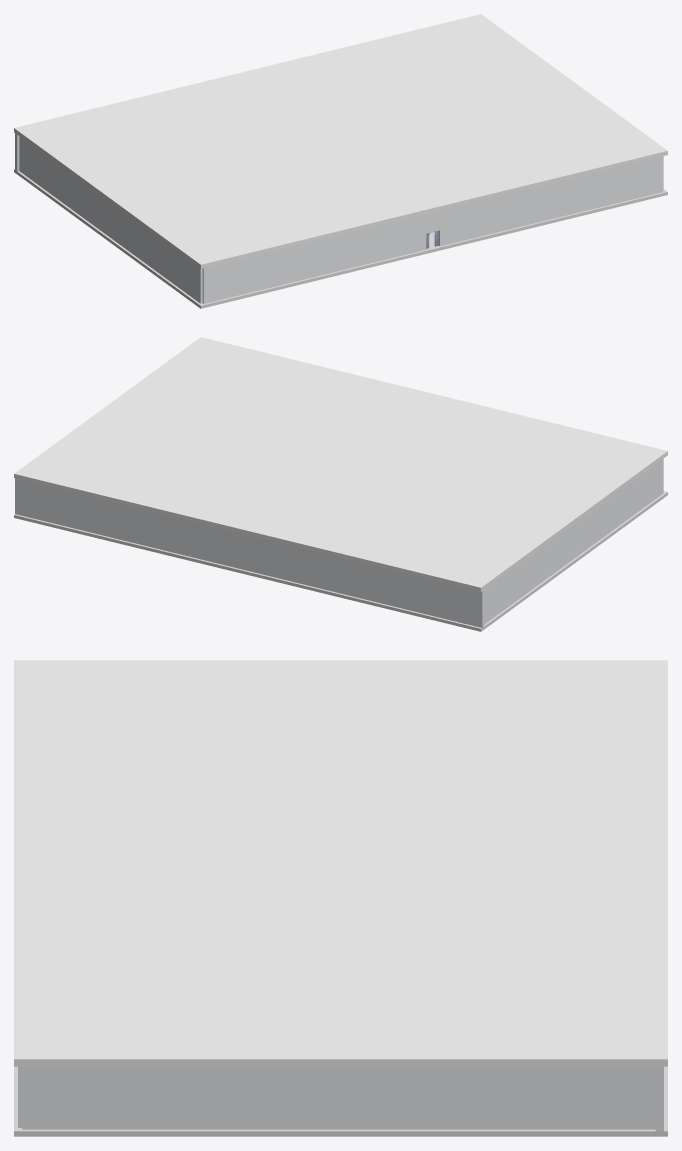
Rendered from world.glb.
3 renders of one model, top to bottom at view 1: azimuth 30°, elevation 25°; view 2: azimuth 150°, elevation 25°; view 3: azimuth 270°, elevation 25°, orthographic. The views are drawn at different scales.
Visible parts, largest first — view 1: Ceiling, Wall_S_L, Wall_S_R, Wall_W, Terrain; view 2: Ceiling, Wall_N, Wall_W, Terrain; view 3: Ceiling, Wall_E, Terrain.
Boxes of the visible parts, left/top/right/bottom form: Ceiling: left=14, top=14, right=667, bottom=268; Wall_S_L: left=202, top=214, right=426, bottom=303; Wall_S_R: left=439, top=156, right=662, bottom=246; Wall_W: left=19, top=136, right=202, bottom=303; Terrain: left=14, top=169, right=667, bottom=308; Ceiling: left=14, top=337, right=667, bottom=591; Wall_N: left=15, top=478, right=484, bottom=627; Wall_W: left=484, top=458, right=663, bottom=623; Terrain: left=14, top=491, right=667, bottom=631; Ceiling: left=14, top=660, right=667, bottom=1066; Wall_E: left=22, top=1066, right=655, bottom=1129; Terrain: left=14, top=1066, right=667, bottom=1136.
Size of the model in its own units: 81.4 by 7.35 by 56.4.
Materials: 82 (11 with a texture image).
